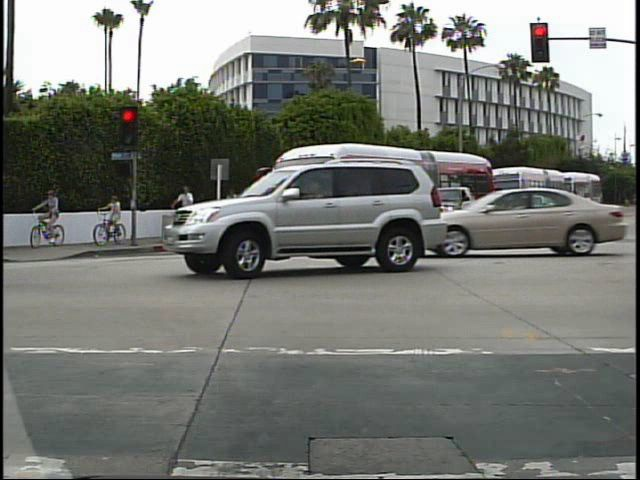person: (99, 194, 125, 248)
